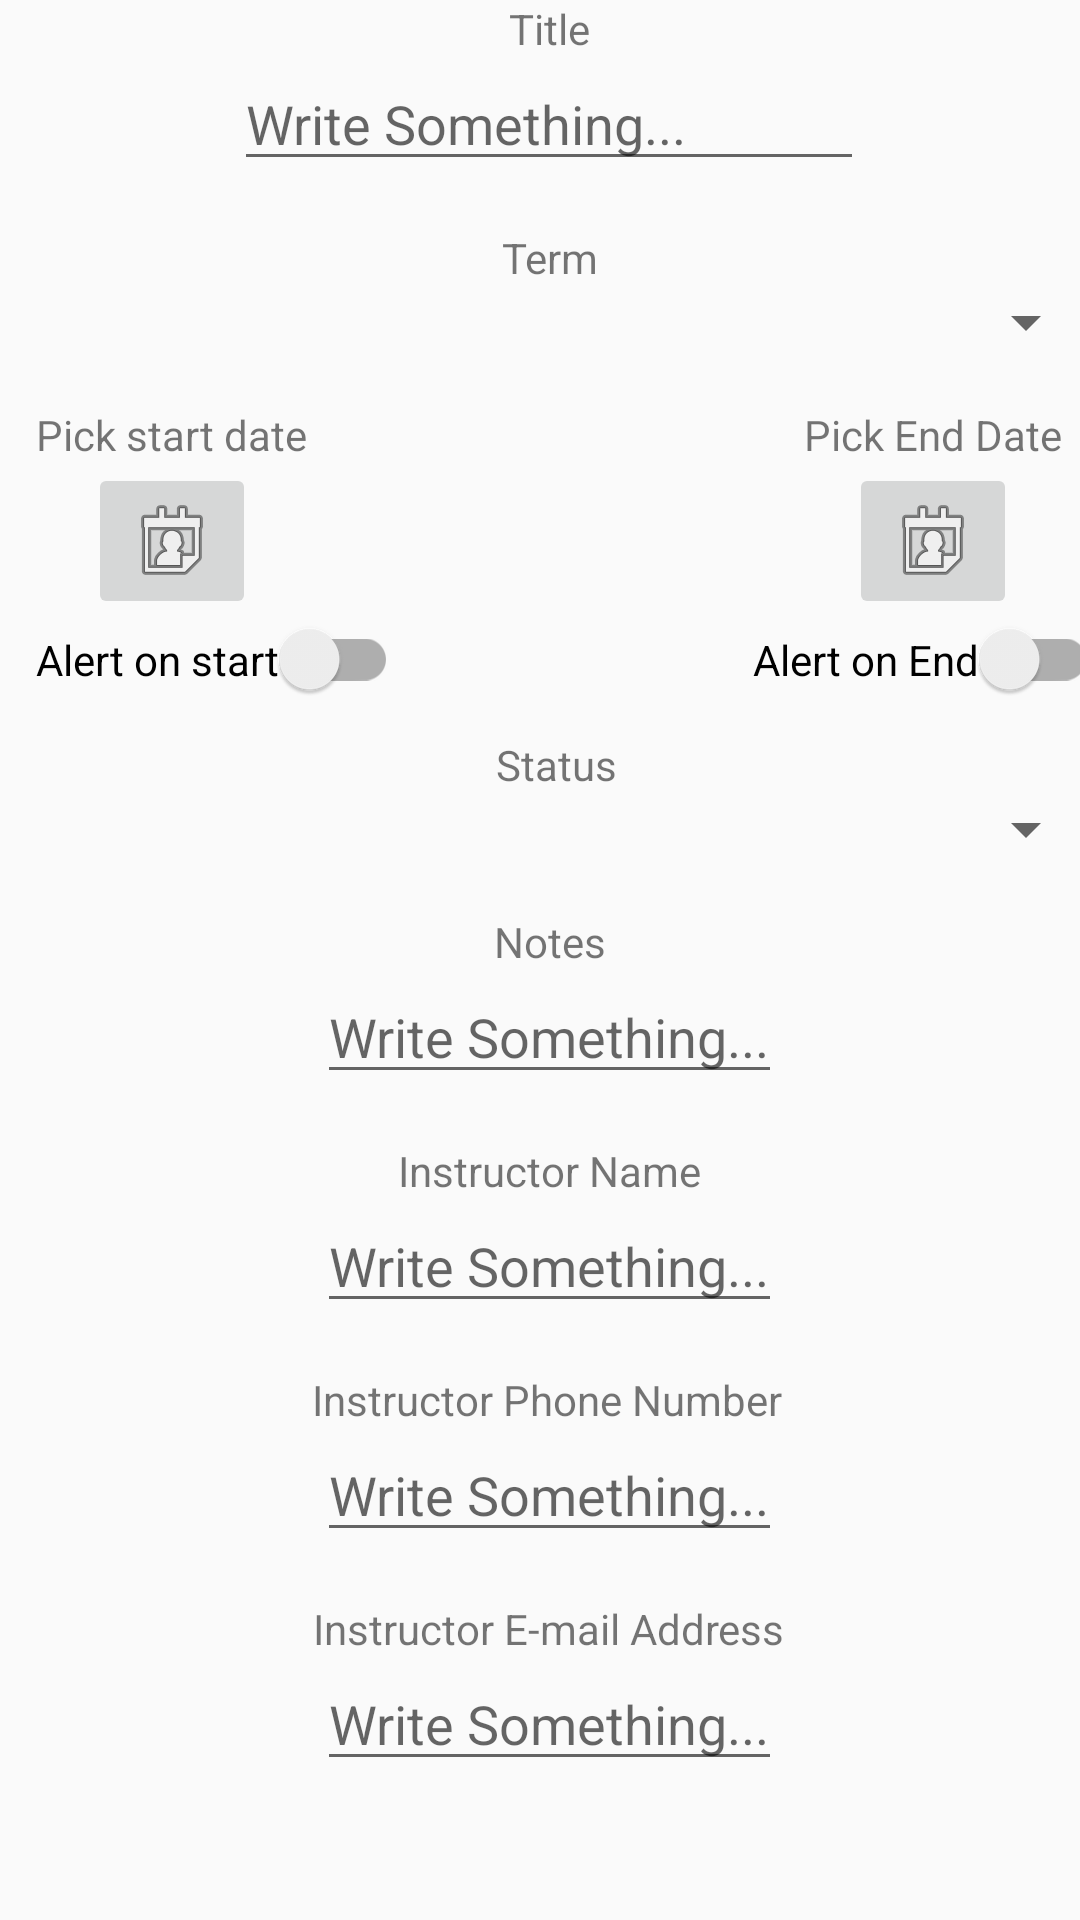

Icon bounding boxes for this 1080 x 1920 phone screenshot, format [x1, y1, x2, y2]:
calendar: [100, 481, 244, 601], [861, 481, 1005, 601]
